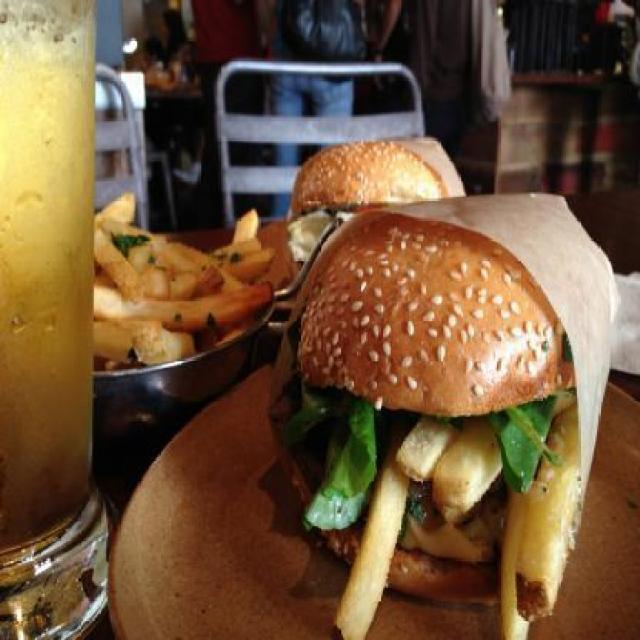Burger: (280, 217, 582, 640), (287, 213, 584, 638), (280, 137, 446, 286), (288, 141, 447, 274)
